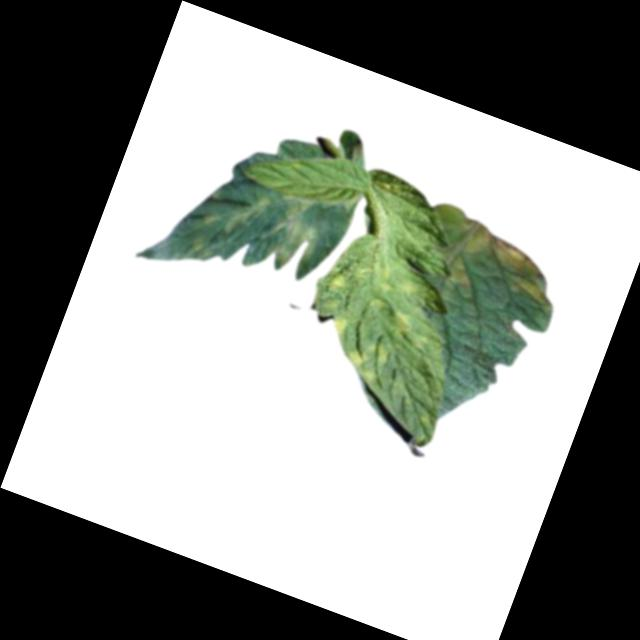Leaf_Mold: (260, 192, 331, 279), (460, 219, 553, 283), (338, 329, 393, 389), (504, 272, 556, 313), (436, 252, 477, 292), (385, 306, 416, 340), (324, 269, 350, 298), (393, 277, 419, 302), (329, 313, 349, 338)
